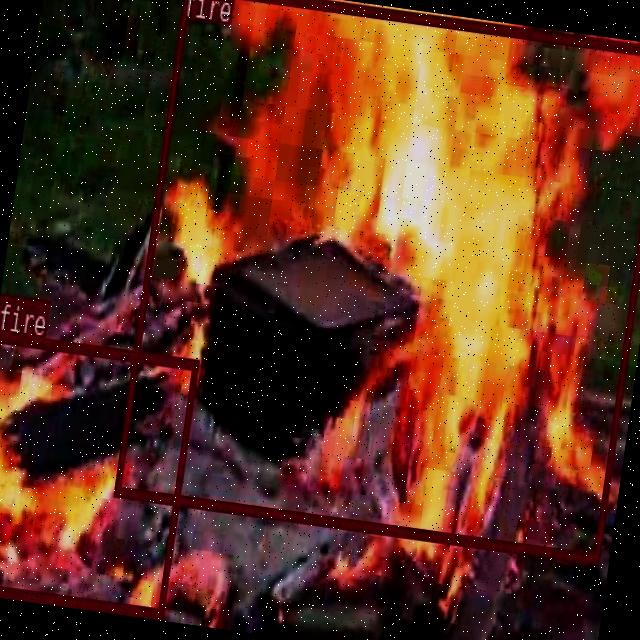fire: (113, 0, 640, 563), (0, 331, 197, 616)
